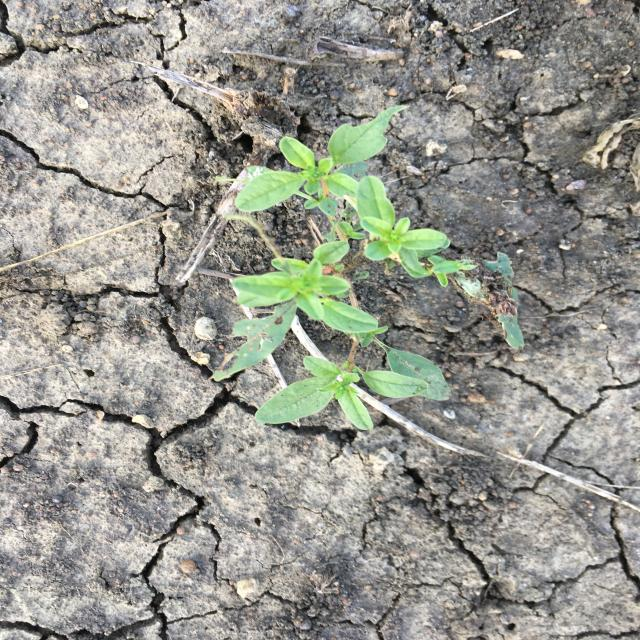Waterhemp: (208, 103, 528, 432)
